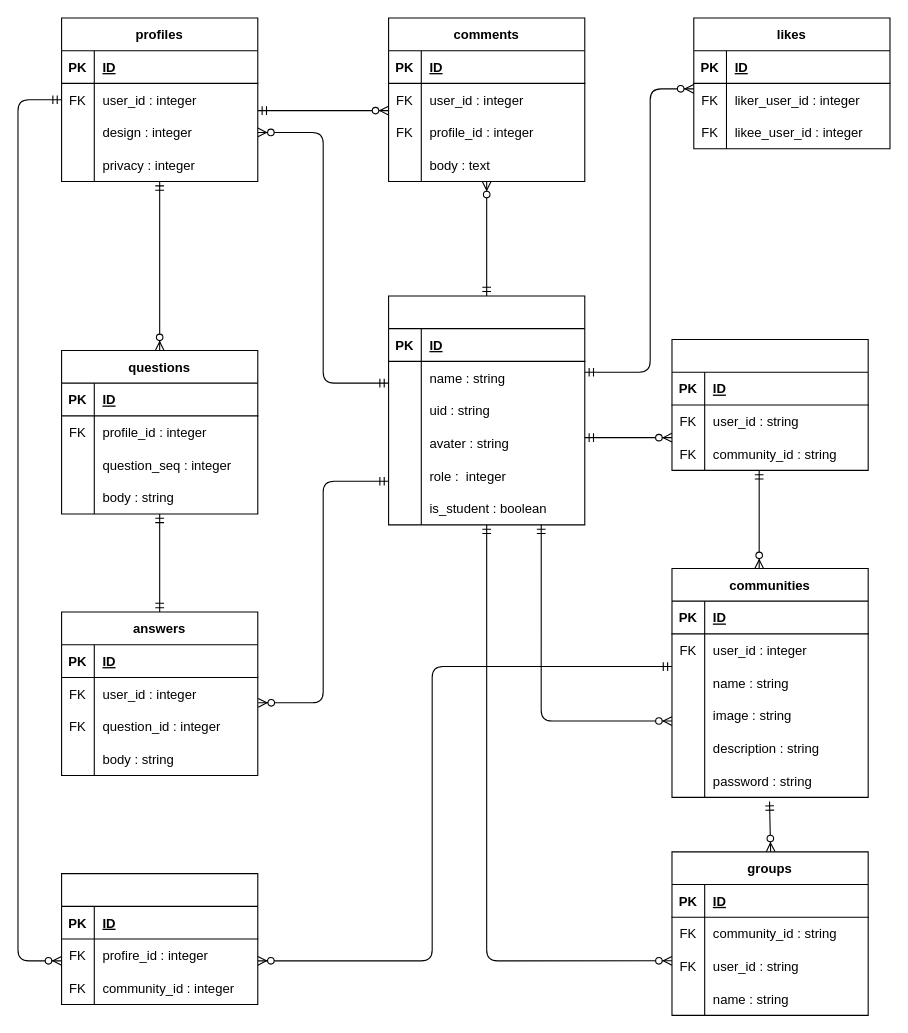
Image size: 908x1033. Some labels were removed from this diagram. The box of each missing label's shape, as (x1, y1, x2, y2) in pixels:
open_ranges: (60, 873, 258, 1004)
user_communities: (671, 338, 868, 470)
users: (387, 295, 585, 525)
